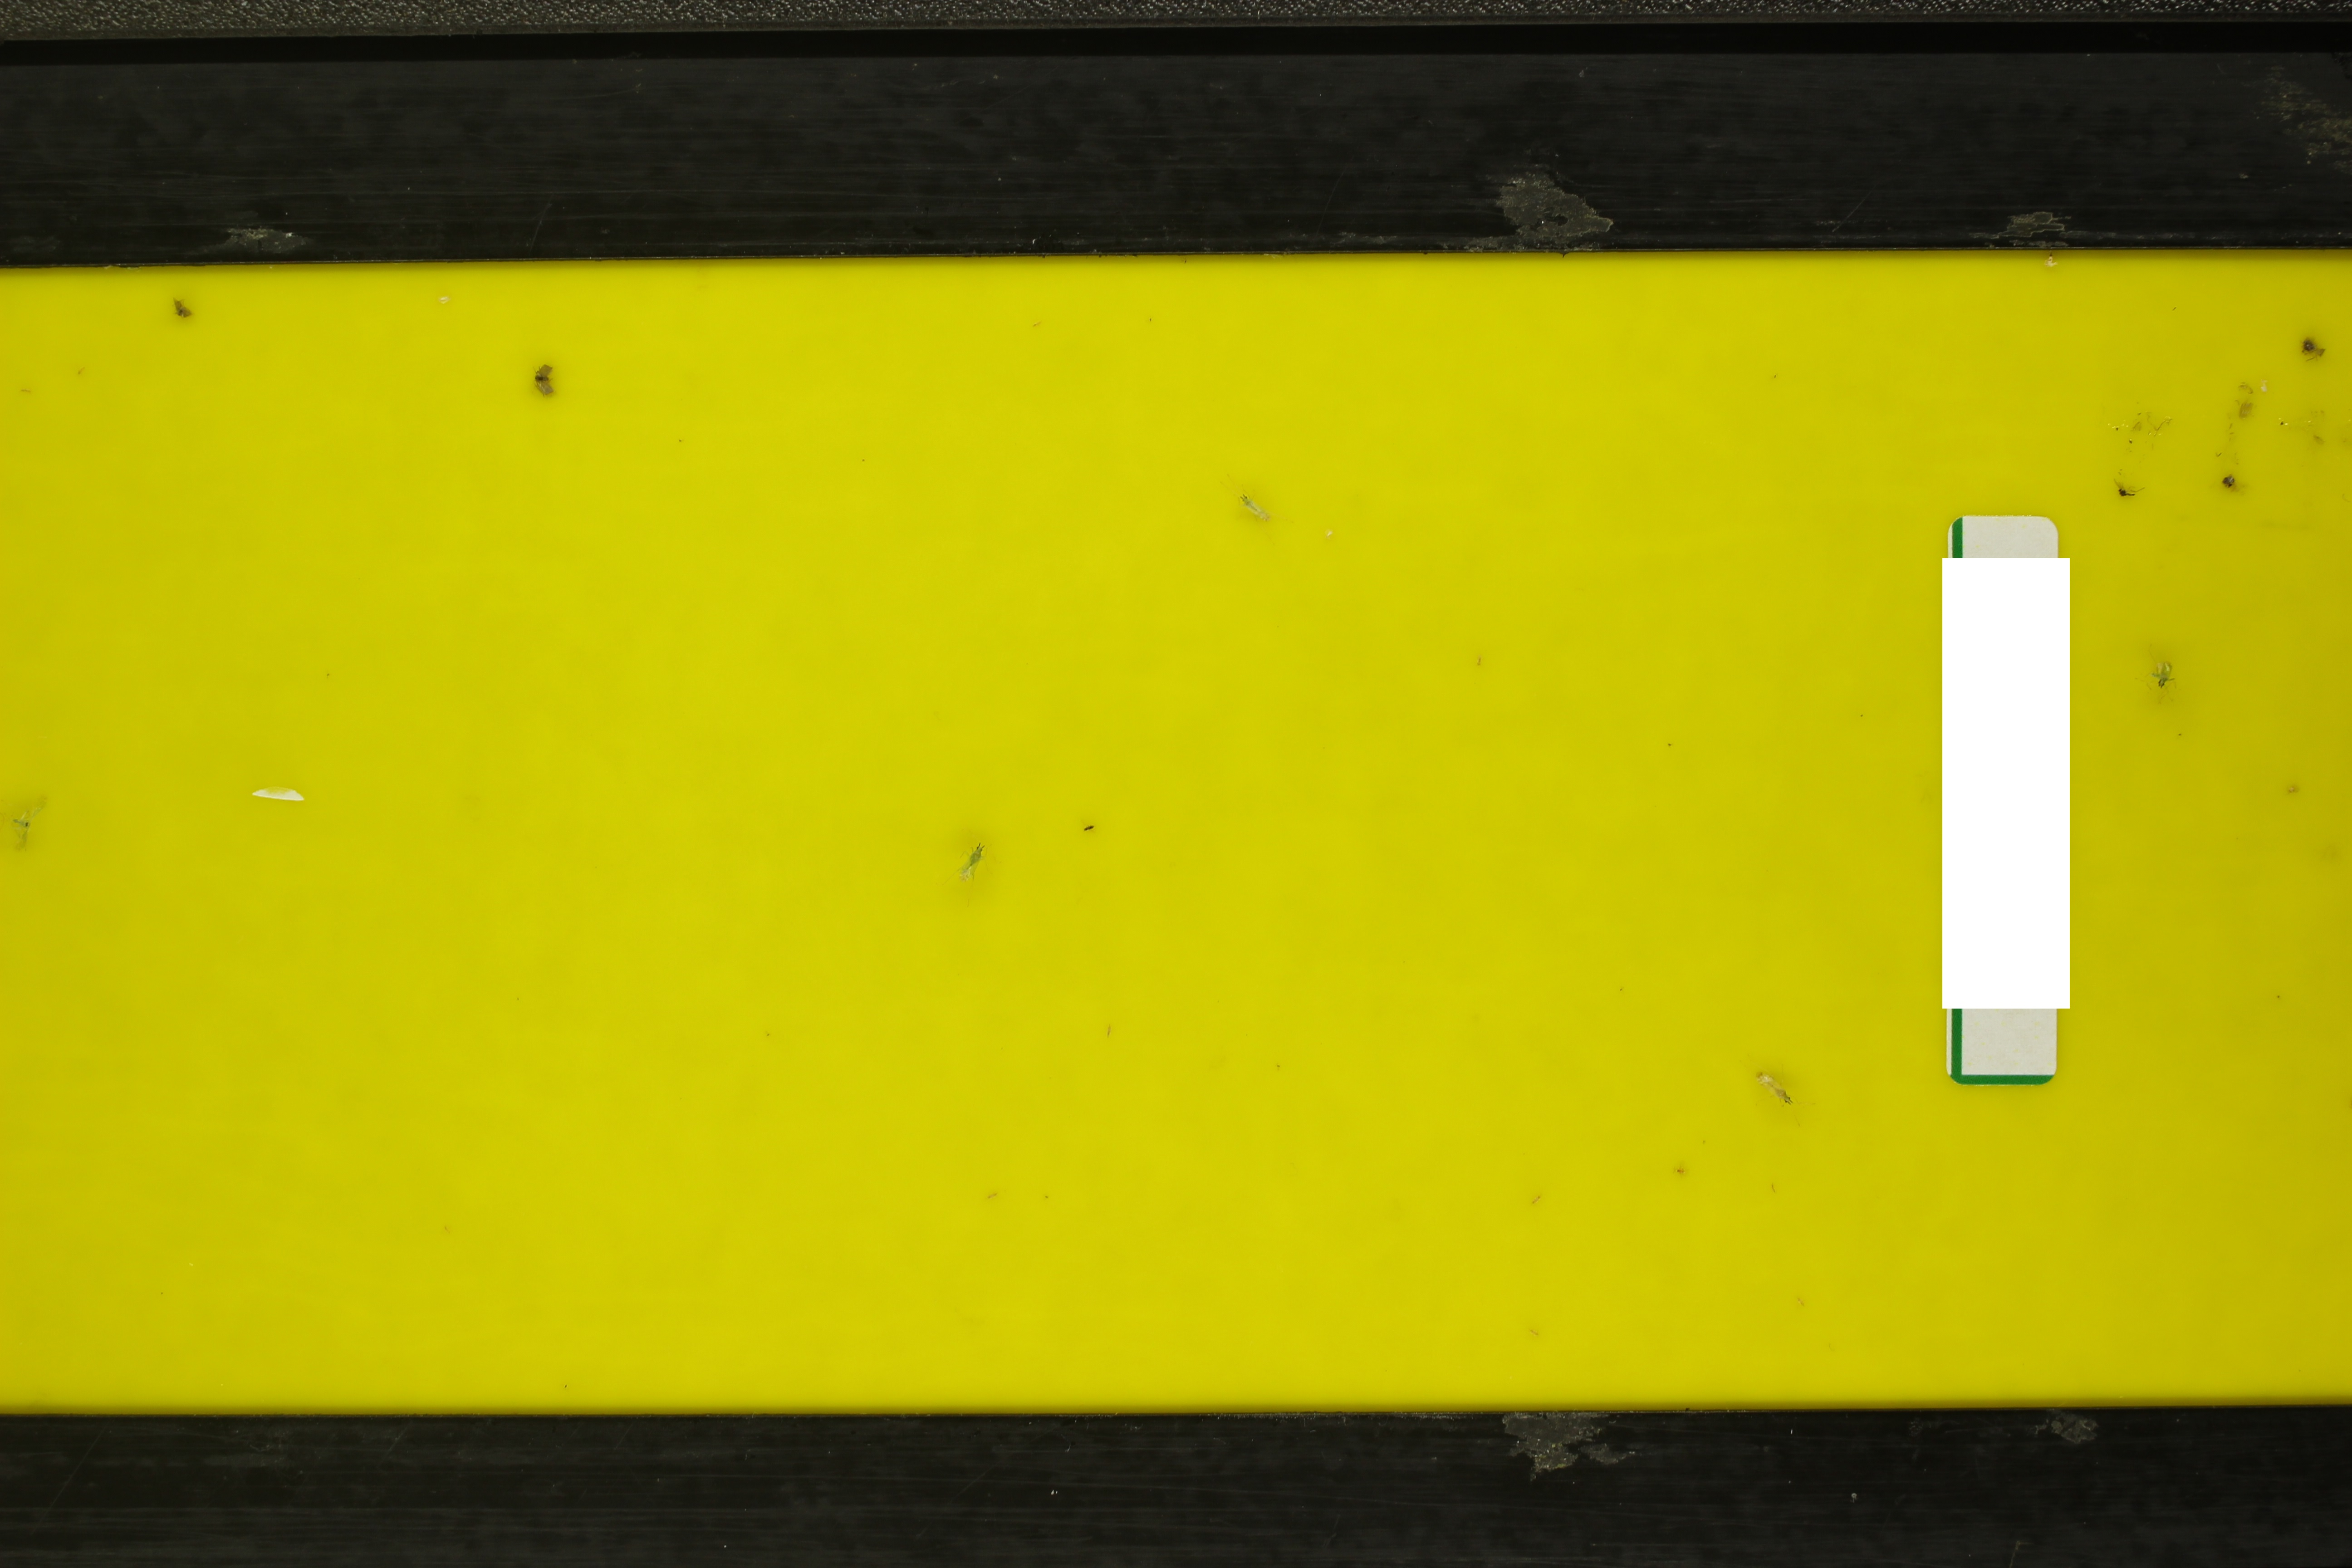WF: (1316, 524, 1342, 542)
